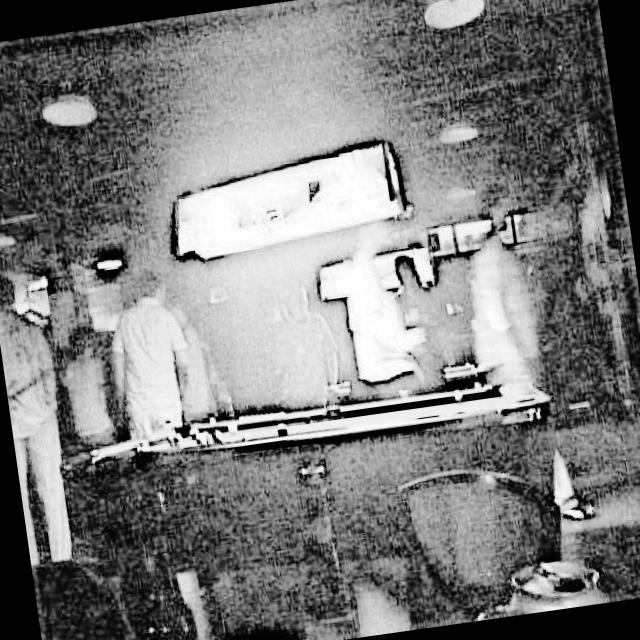Person: (0, 259, 86, 558), (99, 255, 198, 448)
